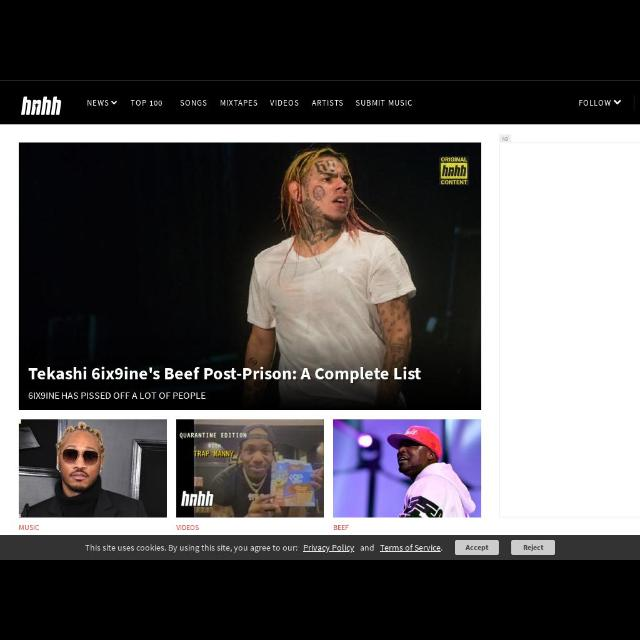icon: (614, 98, 622, 105), (110, 100, 118, 104)
iframe: (501, 142, 639, 520)
image: (19, 142, 481, 410), (176, 420, 324, 518), (18, 419, 166, 516), (334, 421, 480, 517), (21, 95, 63, 116)
spinner: (578, 99, 622, 108), (86, 97, 118, 107)
text: (84, 544, 444, 552), (356, 99, 410, 107), (130, 99, 164, 108), (578, 99, 612, 107), (268, 99, 300, 107), (220, 100, 256, 106), (174, 524, 200, 532), (464, 544, 490, 552), (312, 99, 344, 105), (522, 544, 546, 552), (87, 99, 109, 107), (180, 100, 207, 106), (332, 524, 350, 532), (18, 524, 40, 530)
textbutton: (454, 540, 500, 554), (511, 540, 555, 554)
toolbar: (1, 81, 639, 125)
